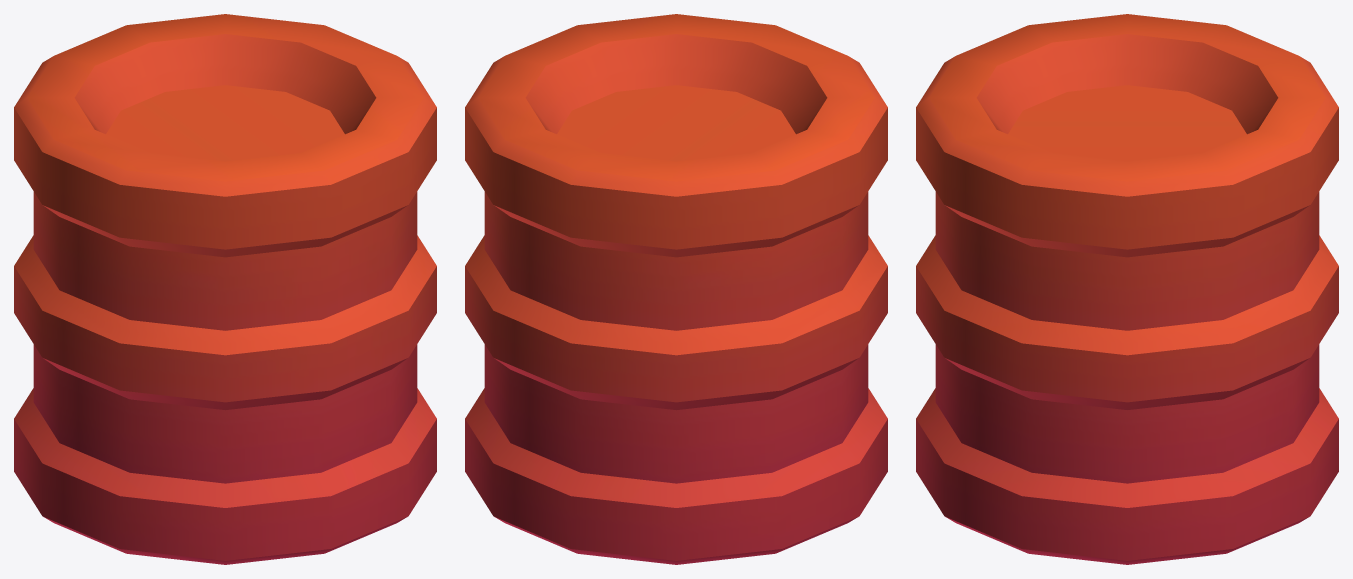
Rendered from barrel.glb.
3 renders of one model, left to right at view 1: azimuth 30°, elevation 25°; view 2: azimuth 150°, elevation 25°; view 3: azimuth 270°, elevation 25°, orthographic.
Visible parts, largest first — view 1: Barrel_A; view 2: Barrel_A; view 3: Barrel_A.
Part boxes in pixels (bbox=[...]): Barrel_A: bbox=[14, 14, 436, 564]; Barrel_A: bbox=[465, 14, 887, 564]; Barrel_A: bbox=[916, 14, 1338, 564].
Size of the model in its own units: 1 by 1 by 1.
Materials: 1 (1 with a texture image).
